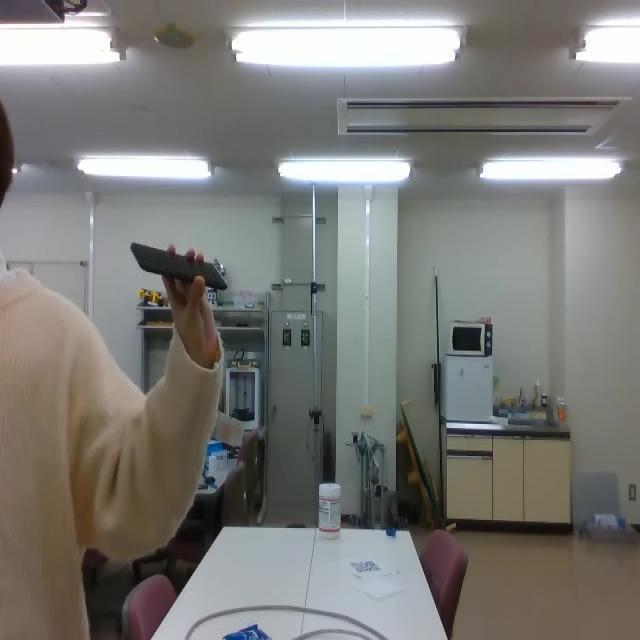Phone: (128, 238, 229, 292)
